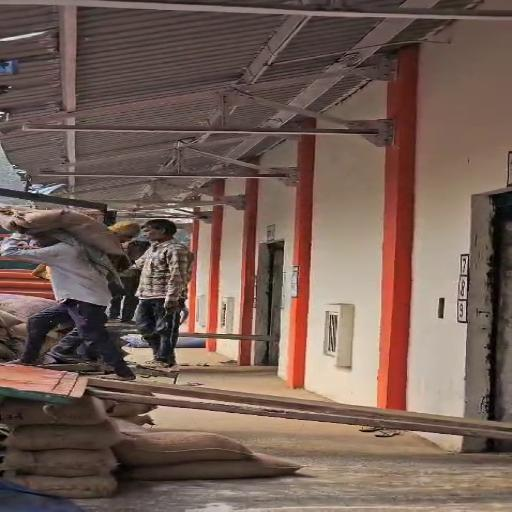bag: (2, 201, 141, 260)
